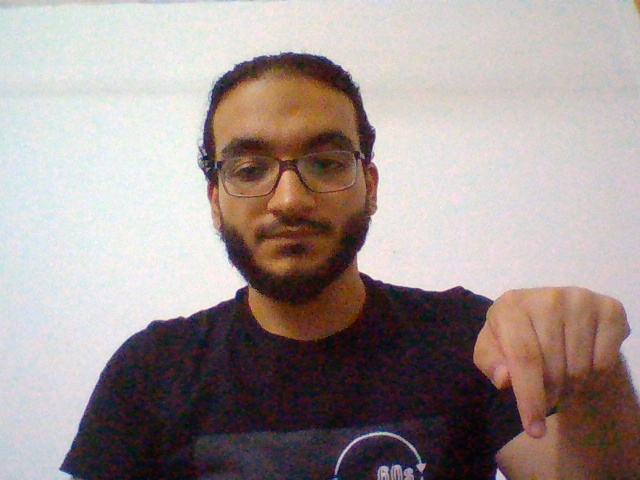Yes: (471, 268, 632, 444)
